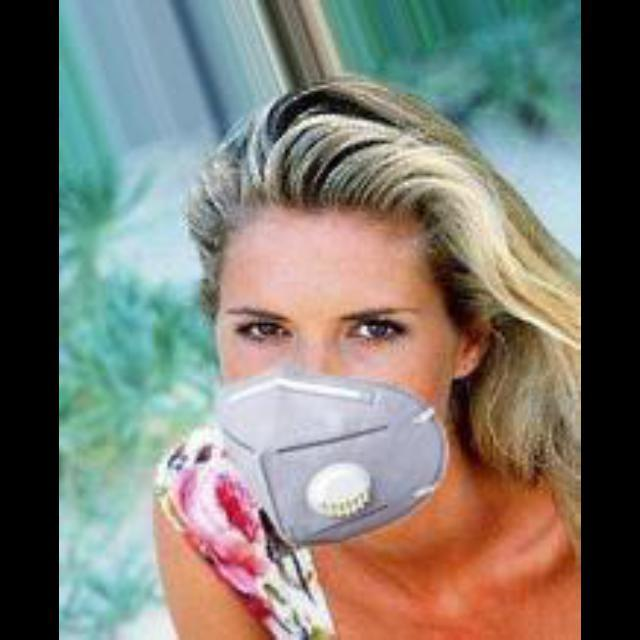suspicion: (187, 108, 495, 542)
